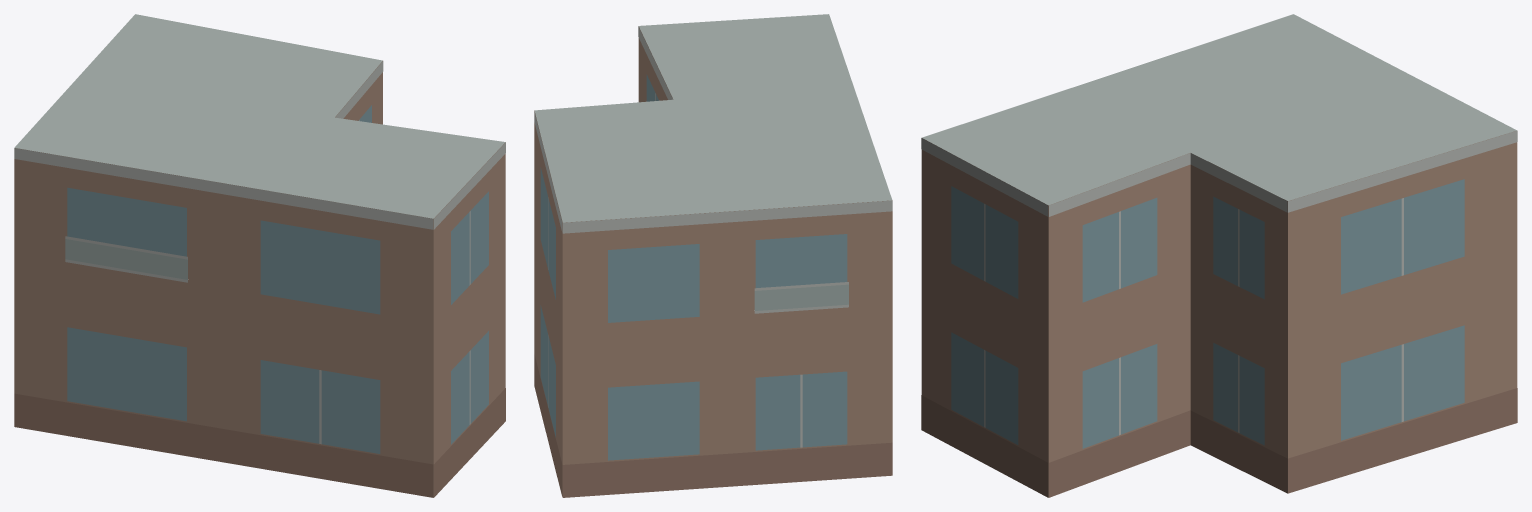
File: survey-upis-32995092.glb
The picture shows the model from 3 angles, left to right: view 1: azimuth 30°, elevation 25°; view 2: azimuth 150°, elevation 25°; view 3: azimuth 270°, elevation 25°; orthographic projection. The views are drawn at different scales.
Parts seen in each view (by area): view 1: survey-upis-32995092.tmp; view 2: survey-upis-32995092.tmp; view 3: survey-upis-32995092.tmp.
Part boxes in pixels (bbox=[...]): survey-upis-32995092.tmp: bbox=[14, 14, 505, 497]; survey-upis-32995092.tmp: bbox=[534, 14, 892, 497]; survey-upis-32995092.tmp: bbox=[921, 14, 1517, 497].
Bounding box in the file's own units: 8.57 × 6.1 × 11.27.
